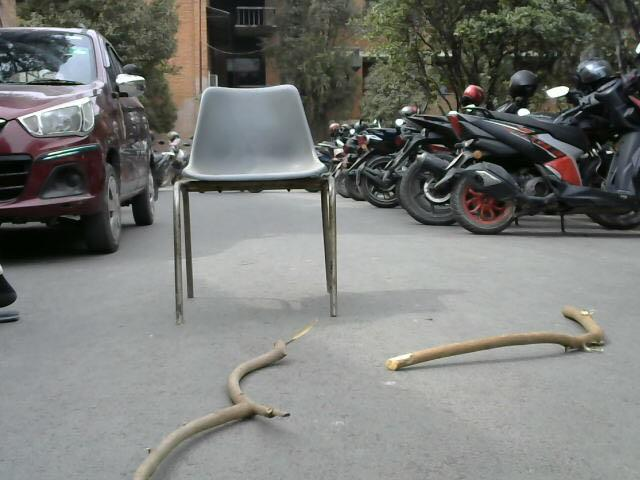Car: (0, 25, 158, 265)
Motorcycle: (324, 78, 640, 230)
Tree: (365, 1, 611, 62)
